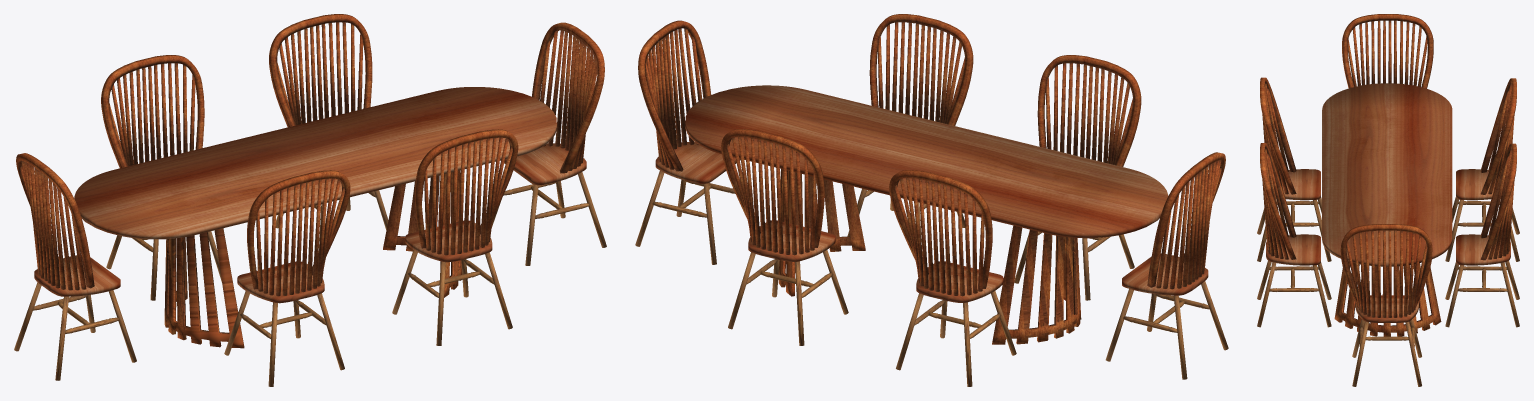
3 views of the same model, side by side, from view 1: azimuth 30°, elevation 25°; view 2: azimuth 150°, elevation 25°; view 3: azimuth 270°, elevation 25° (orthographic). The views are drawn at different scales.
Visible parts, largest first — view 1: Tabla_de_mesa, Silla_3, Silla_4, Silla_2, Silla_1, Silla_6, Silla_5, Pata_de__mesa_1, Pata_de_mesa_2; view 2: Tabla_de_mesa, Silla_5, Silla_6, Silla_2, Silla_1, Silla_3, Silla_4, Pata_de__mesa_1, Pata_de_mesa_2; view 3: Tabla_de_mesa, Silla_2, Silla_4, Silla_5, Silla_1, Silla_6, Silla_3, Pata_de_mesa_2.
Part boxes in pixels (<box>): Tabla_de_mesa: <box>74,87,556,239</box>; Silla_3: <box>224,170,350,386</box>; Silla_4: <box>392,129,518,345</box>; Silla_2: <box>491,22,606,265</box>; Silla_1: <box>14,153,136,380</box>; Silla_6: <box>101,55,221,300</box>; Silla_5: <box>269,14,388,252</box>; Pata_de__mesa_1: <box>164,228,244,348</box>; Pata_de_mesa_2: <box>383,170,462,297</box>; Tabla_de_mesa: <box>685,85,1168,238</box>; Silla_5: <box>721,129,848,345</box>; Silla_6: <box>889,170,1016,386</box>; Silla_2: <box>635,20,740,264</box>; Silla_1: <box>1105,152,1228,379</box>; Silla_3: <box>1014,55,1141,300</box>; Silla_4: <box>847,14,973,253</box>; Pata_de__mesa_1: <box>992,225,1081,344</box>; Pata_de_mesa_2: <box>778,169,865,296</box>; Tabla_de_mesa: <box>1322,83,1452,266</box>; Silla_2: <box>1340,224,1432,386</box>; Silla_4: <box>1257,143,1331,327</box>; Silla_5: <box>1445,143,1519,327</box>; Silla_1: <box>1342,14,1433,88</box>; Silla_6: <box>1445,78,1519,261</box>; Silla_3: <box>1257,77,1331,261</box>; Pata_de_mesa_2: <box>1334,261,1441,336</box>.
Bounding box in the file's own units: 325 × 114 × 168.
4 materials, 4 textured.
